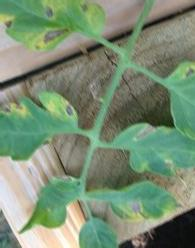Tomato Early blight leaf: (0, 0, 103, 52), (0, 91, 81, 157), (107, 122, 195, 178), (13, 171, 81, 243), (91, 181, 186, 220)
Tomato leaf: (74, 217, 121, 248)
